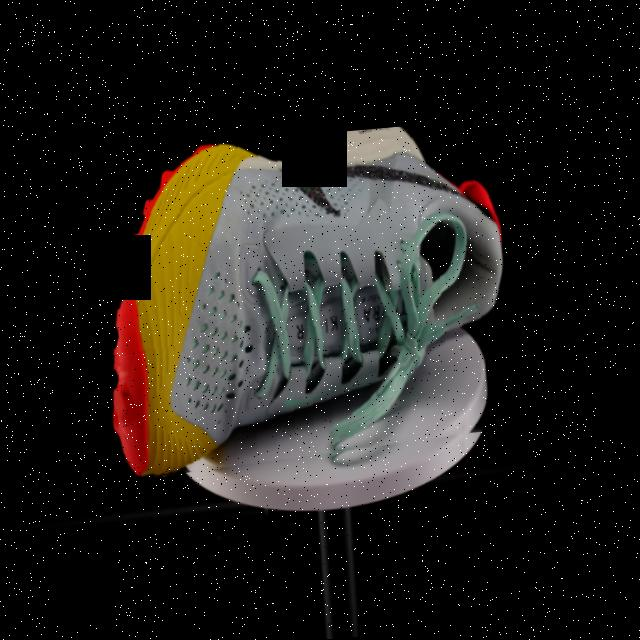shoe: (85, 118, 524, 482)
